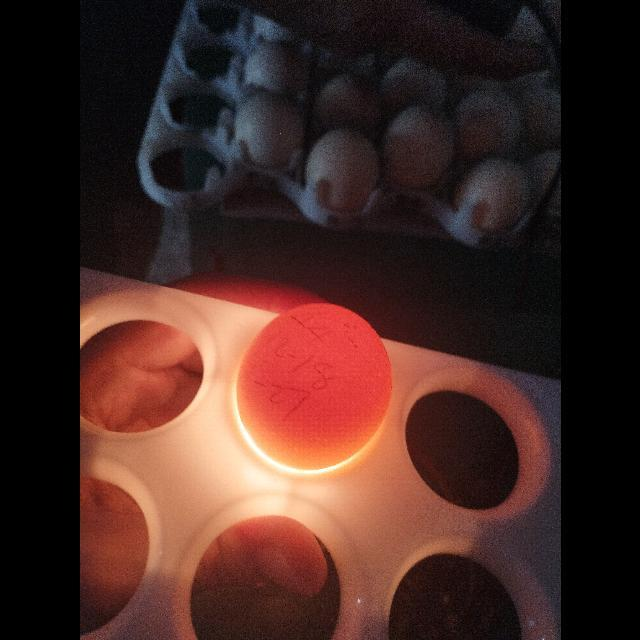Infertile: (233, 300, 395, 474)
